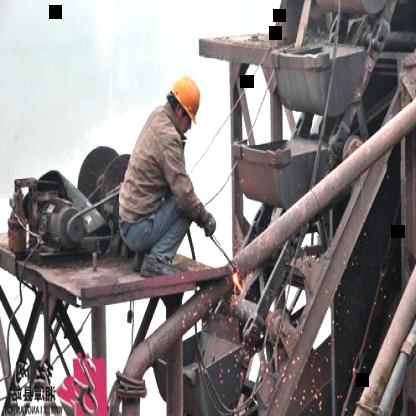helmet: (161, 70, 205, 138)
